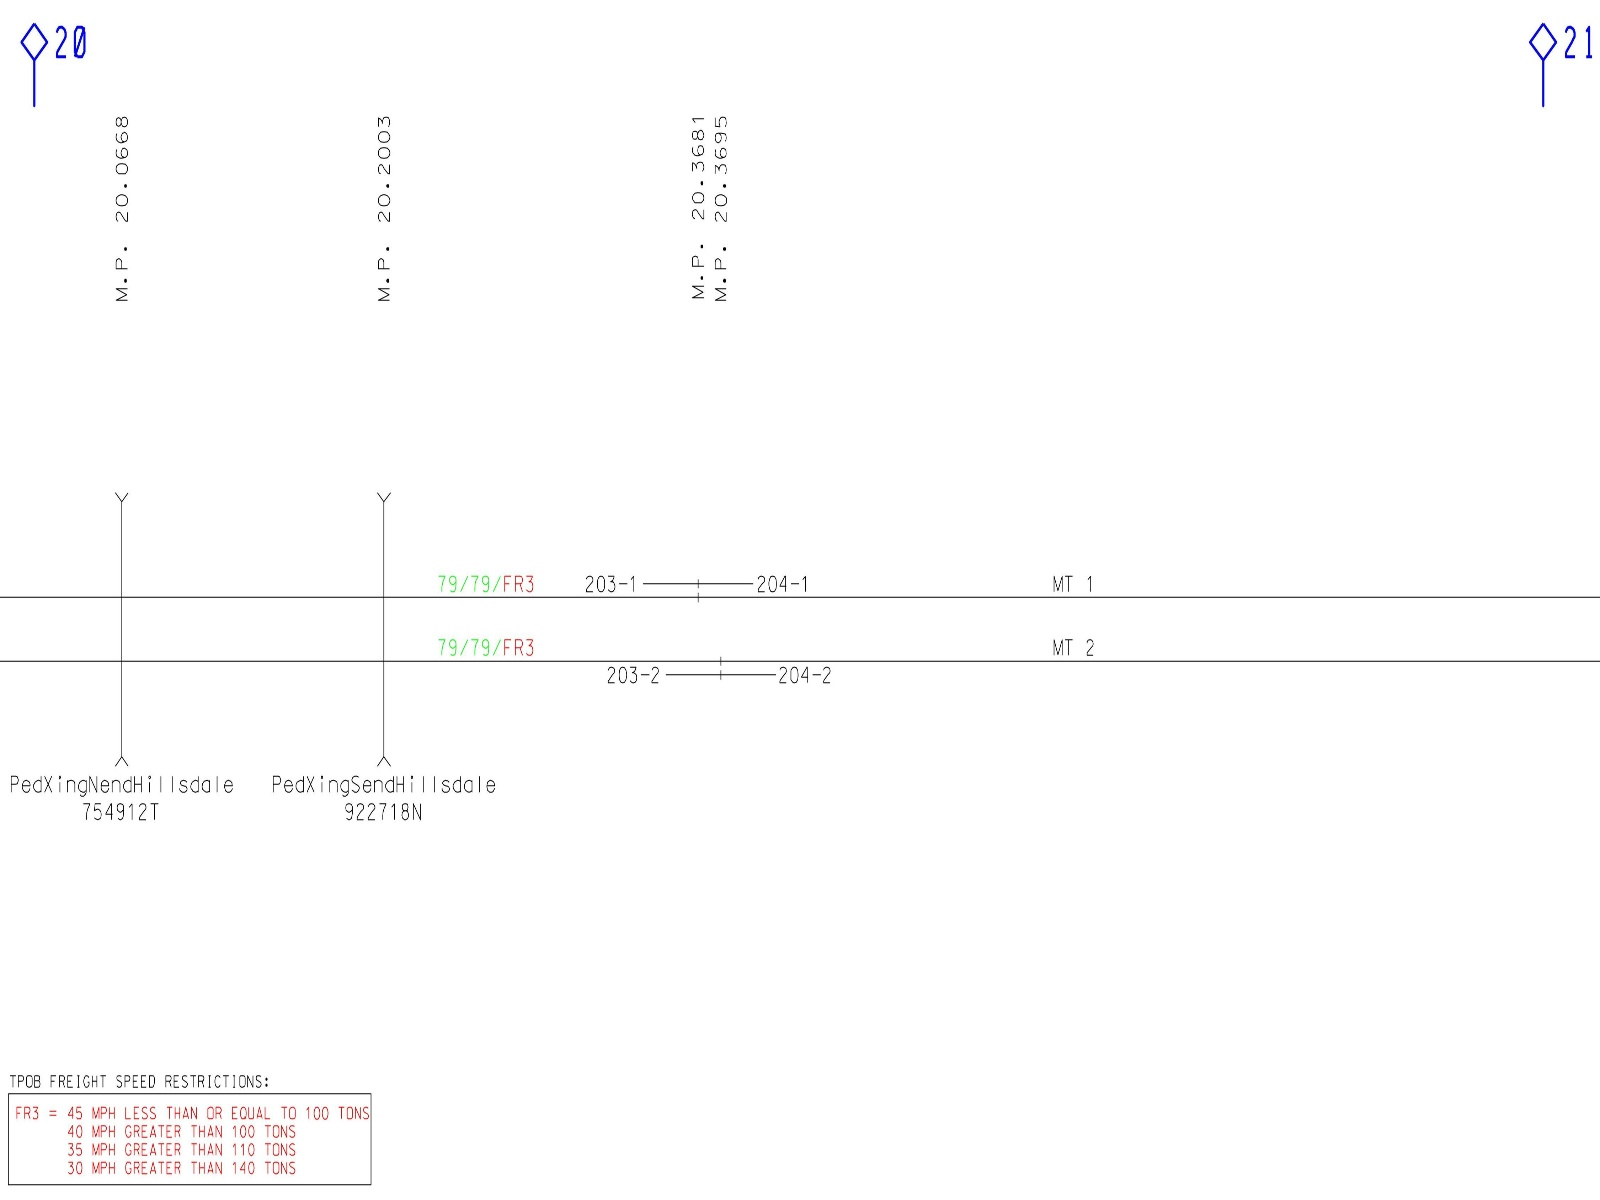crossover: (78, 478, 168, 766), (341, 479, 431, 768)
crossoverLabel: (5, 771, 249, 838), (262, 768, 506, 834)
milepost: (346, 95, 428, 319), (671, 96, 753, 320), (81, 103, 163, 326)
